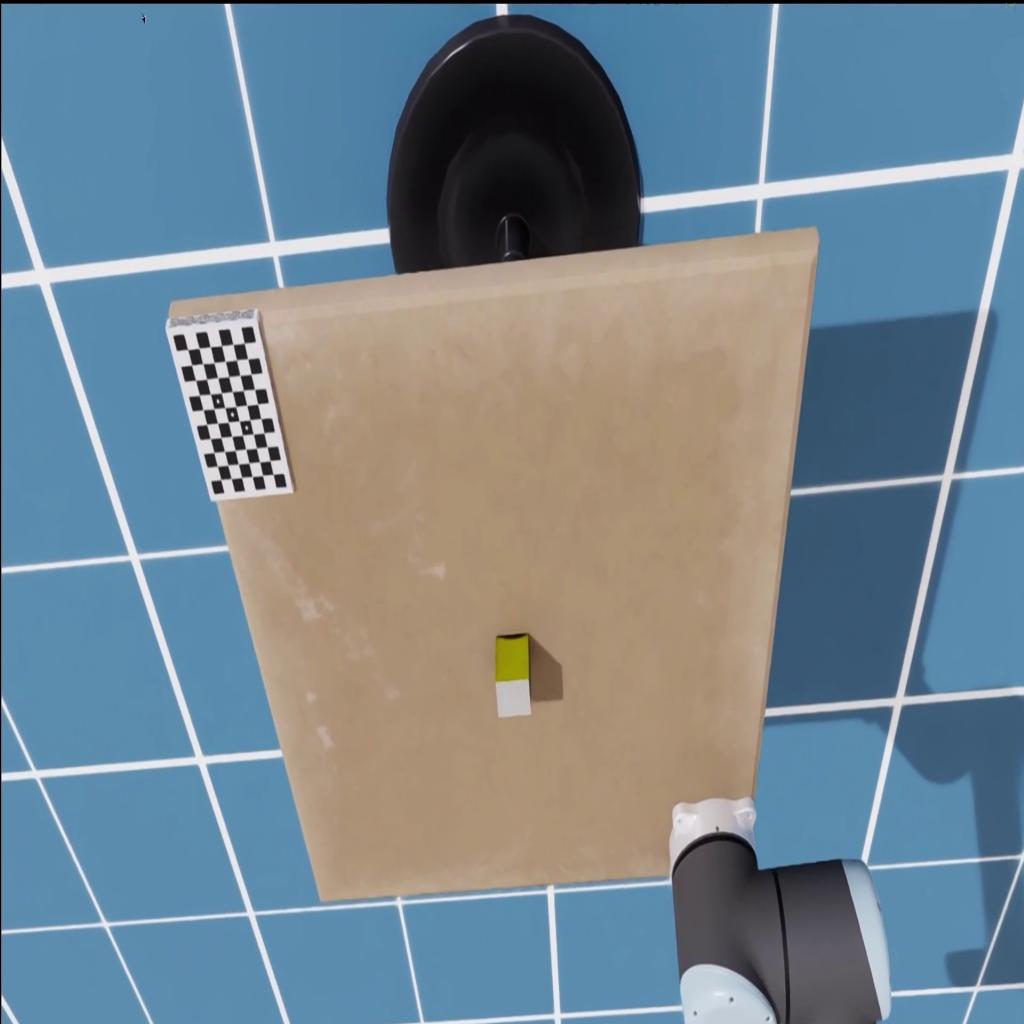Cube: (494, 633, 532, 719)
QR: (165, 304, 295, 504)
Robot: (668, 796, 890, 1024)
Table: (166, 224, 820, 904)
